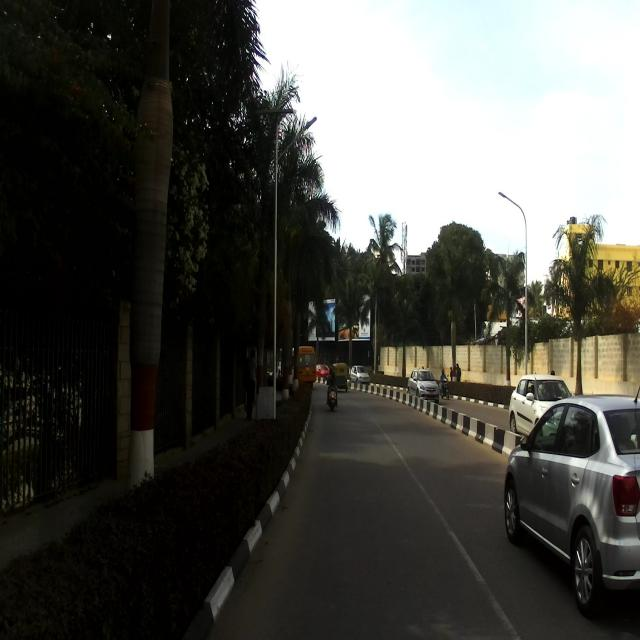car: (503, 377, 639, 620), (508, 374, 576, 442)
